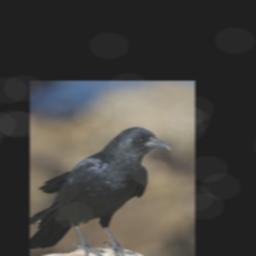Crow: (30, 126, 173, 256)
